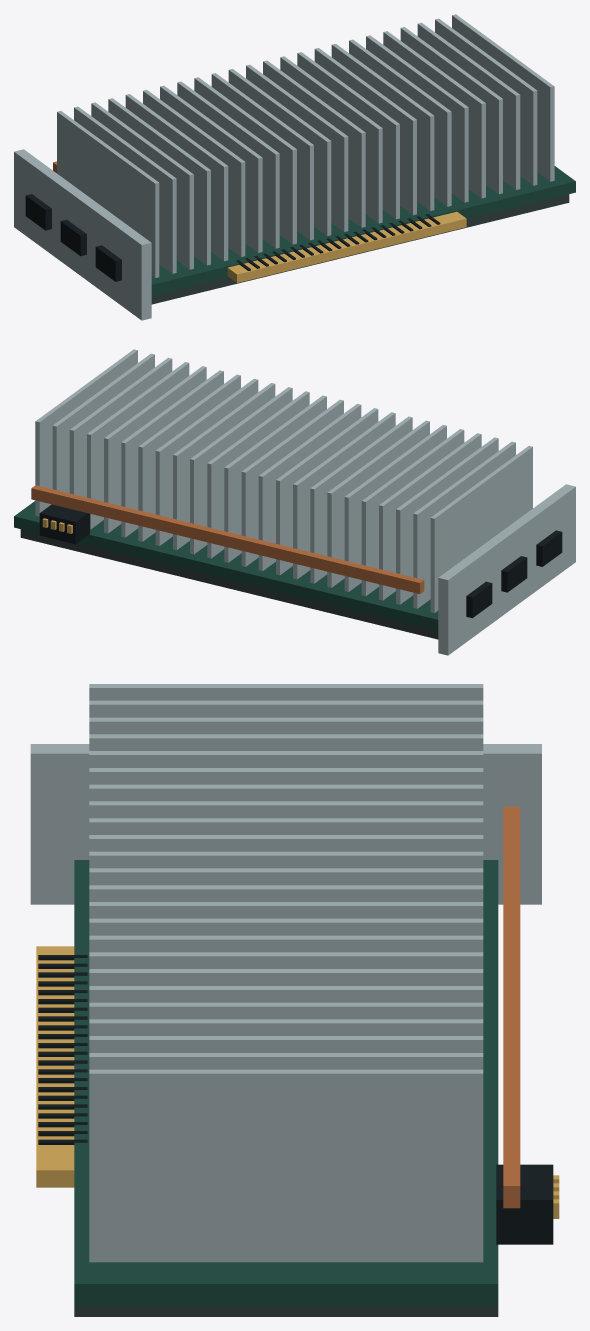
Rendered from gpu-passive.glb.
The picture shows the model from 3 angles, top to bottom: view 1: azimuth 30°, elevation 25°; view 2: azimuth 150°, elevation 25°; view 3: azimuth 270°, elevation 25°; orthographic projection. The views are drawn at different scales.
Visible parts, largest first — view 1: Brushed aluminium, gpu-passive, Contacts, Rubber and ABS; view 2: Brushed aluminium, gpu-passive, Copper heat pipes, Rubber and ABS; view 3: Brushed aluminium, gpu-passive, Rubber and ABS, Copper heat pipes, Contacts.
Boxes of the visible parts, box(x1,y1,x2,y2) form: Brushed aluminium: box(14, 14, 554, 320); gpu-passive: box(151, 166, 575, 304); Contacts: box(227, 211, 466, 282); Rubber and ABS: box(25, 194, 440, 281); Brushed aluminium: box(35, 349, 575, 655); gpu-passive: box(14, 501, 438, 639); Copper heat pipes: box(31, 485, 424, 593); Rubber and ABS: box(39, 504, 562, 618); Brushed aluminium: box(30, 684, 541, 1262); gpu-passive: box(74, 860, 498, 1316); Rubber and ABS: box(38, 955, 553, 1244); Copper heat pipes: box(503, 806, 520, 1208); Contacts: box(36, 946, 559, 1218).
Size of the model in its own units: 2.75 by 0.701 by 1.4.
